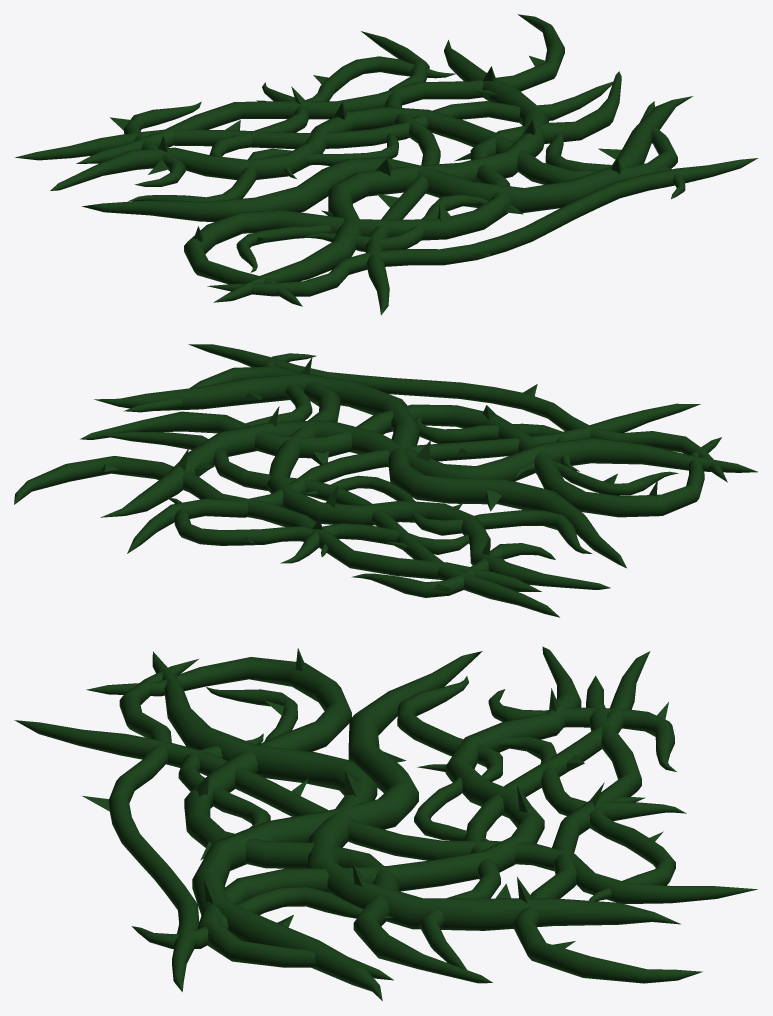
Rendered from DoorClimbPlant.fbx.
3 renders of one model, top to bottom at view 1: azimuth 30°, elevation 25°; view 2: azimuth 150°, elevation 25°; view 3: azimuth 270°, elevation 25°, orthographic. The views are drawn at different scales.
Parts seen in each view (by area): view 1: Rama_12, Rama_10, Rama_13, Rama_14, Rama_11, Rama_7, Rama_6, Rama_15, Rama_9, Rama_8, Rama_2, Rama_1 (+4 smaller); view 2: Rama_12, Rama_14, Rama_13, Rama_10, Rama_7, Rama_15, Rama_11, Rama_6, Rama_5, Rama_8, Rama_9, Rama_1 (+4 smaller); view 3: Rama_14, Rama_13, Rama_10, Rama_12, Rama_15, Rama_7, Rama_11, Rama_6, Rama_5, Rama_3, Rama_1, Rama_9 (+4 smaller).
Part boxes in pixels (<box>): Rama_12: <box>81,96,693,221</box>; Rama_10: <box>50,101,677,190</box>; Rama_13: <box>184,71,621,306</box>; Rama_14: <box>213,40,548,302</box>; Rama_11: <box>207,158,758,296</box>; Rama_7: <box>76,14,564,163</box>; Rama_6: <box>15,81,612,160</box>; Rama_15: <box>361,31,440,315</box>; Rama_9: <box>110,101,201,186</box>; Rama_8: <box>256,56,456,101</box>; Rama_2: <box>303,194,488,251</box>; Rama_1: <box>209,82,309,156</box>; Rama_12: <box>94,357,626,568</box>; Rama_14: <box>100,406,757,517</box>; Rama_13: <box>80,404,721,517</box>; Rama_10: <box>123,366,610,589</box>; Rama_7: <box>14,456,541,591</box>; Rama_15: <box>127,403,700,553</box>; Rama_11: <box>188,344,727,482</box>; Rama_6: <box>104,431,559,617</box>; Rama_5: <box>411,510,592,553</box>; Rama_8: <box>167,497,328,556</box>; Rama_9: <box>351,543,555,597</box>; Rama_1: <box>280,523,469,563</box>; Rama_14: <box>152,651,680,930</box>; Rama_13: <box>86,648,492,983</box>; Rama_10: <box>197,646,581,980</box>; Rama_12: <box>192,651,482,1000</box>; Rama_15: <box>14,720,757,903</box>; Rama_7: <box>514,675,702,983</box>; Rama_11: <box>82,659,199,991</box>; Rama_6: <box>420,651,650,969</box>; Rama_5: <box>397,676,502,781</box>; Rama_3: <box>131,886,393,948</box>; Rama_1: <box>499,736,686,821</box>; Rama_9: <box>488,689,676,771</box>.
Bounding box in the file's own units: 0.7476 × 0.0481 × 0.6622.
